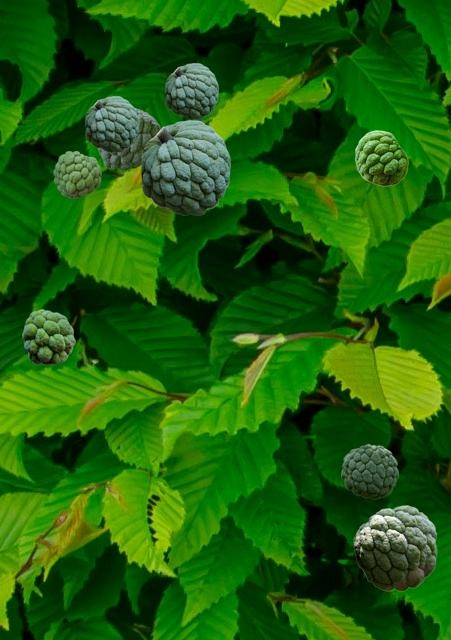atis: (141, 120, 229, 214), (353, 505, 436, 590), (97, 107, 159, 169), (341, 444, 397, 498), (85, 96, 137, 151), (355, 130, 407, 185), (22, 309, 74, 364), (165, 63, 217, 118), (53, 151, 100, 197)
